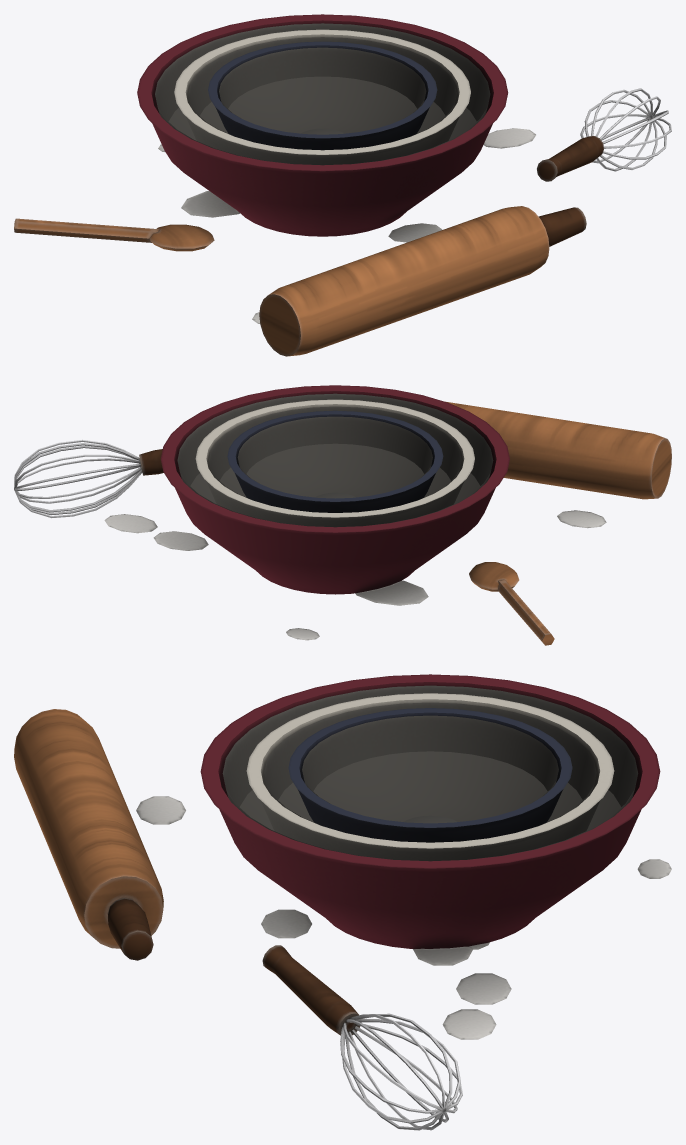
Rendered from MixingBowlSet.fbx.
3 renders of one model, top to bottom at view 1: azimuth 30°, elevation 25°; view 2: azimuth 150°, elevation 25°; view 3: azimuth 270°, elevation 25°, orthographic. The views are drawn at different scales.
Visible parts, largest first — view 1: MixingBowlSet; view 2: MixingBowlSet; view 3: MixingBowlSet.
Part boxes in pixels (left/top/right/bottom): MixingBowlSet: left=14, top=14, right=671, bottom=356; MixingBowlSet: left=14, top=385, right=671, bottom=645; MixingBowlSet: left=14, top=674, right=671, bottom=1130.
Bounding box in the file's own units: 218 × 47.99 × 164.
